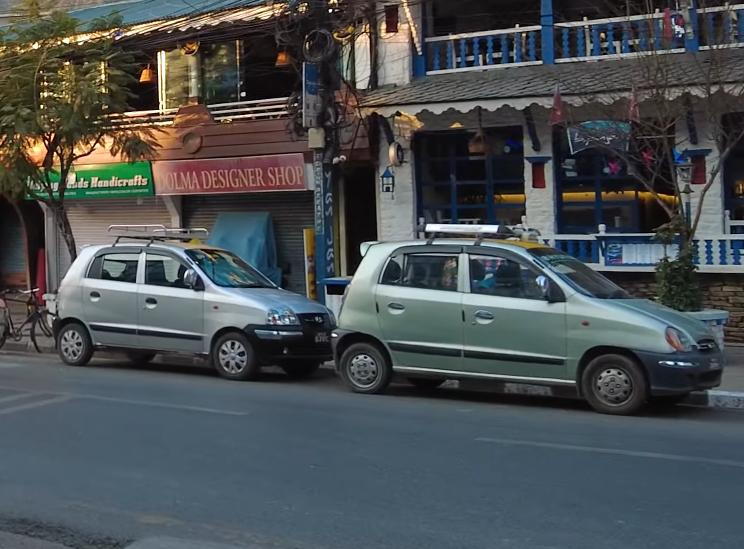taxi: (336, 212, 733, 425), (44, 210, 345, 382)
